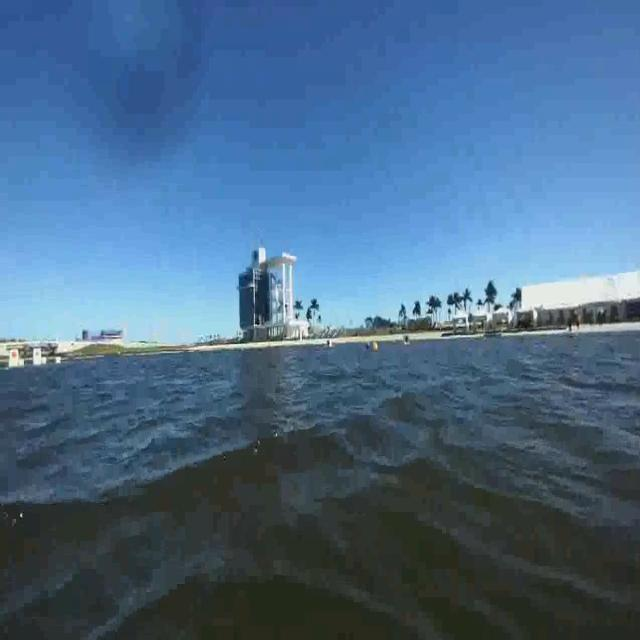yellow-buoy: (371, 342, 378, 354)
